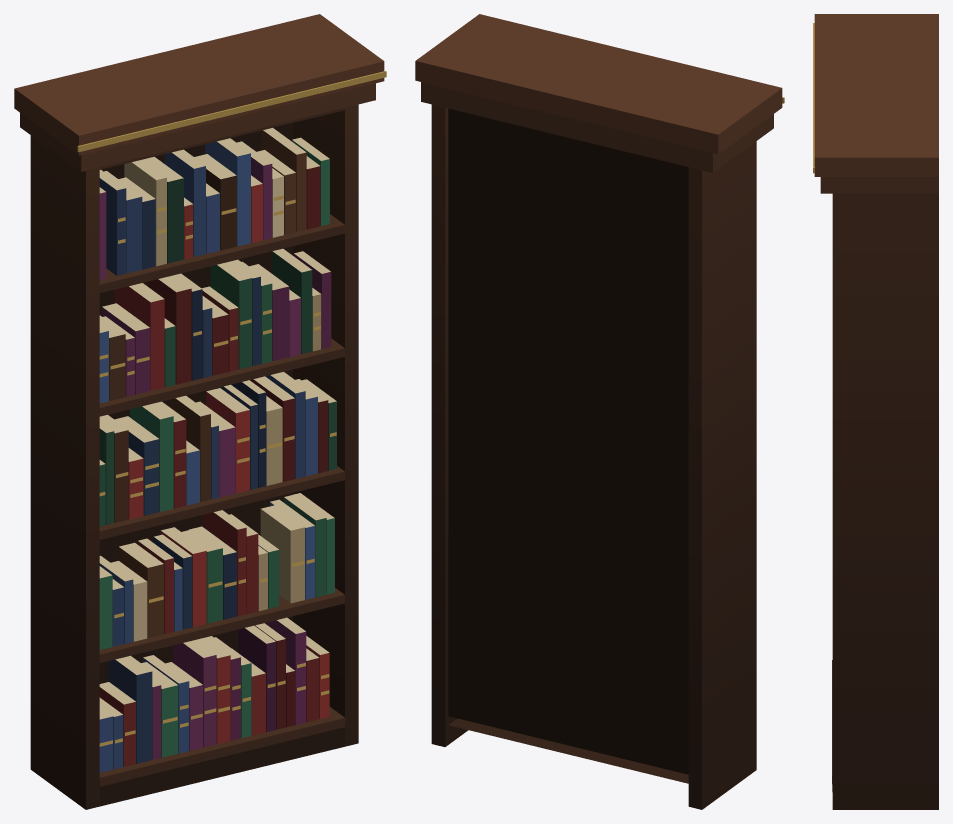
Rendered from SM_Bookcase_Tall_1m_Filled.fbx.
3 views of the same model, side by side, from view 1: azimuth 30°, elevation 25°; view 2: azimuth 150°, elevation 25°; view 3: azimuth 270°, elevation 25° (orthographic). The views are drawn at different scales.
Parts seen in each view (by area): view 1: SM_Bookcase_Tall_1m_Filled; view 2: SM_Bookcase_Tall_1m_Filled; view 3: SM_Bookcase_Tall_1m_Filled.
Boxes of the visible parts, box(x1,y1,x2,y2) form: SM_Bookcase_Tall_1m_Filled: box(14, 14, 386, 809); SM_Bookcase_Tall_1m_Filled: box(415, 14, 784, 809); SM_Bookcase_Tall_1m_Filled: box(813, 14, 938, 809).
Bounding box in the file's own units: 1.13 × 2.4 × 0.415.
